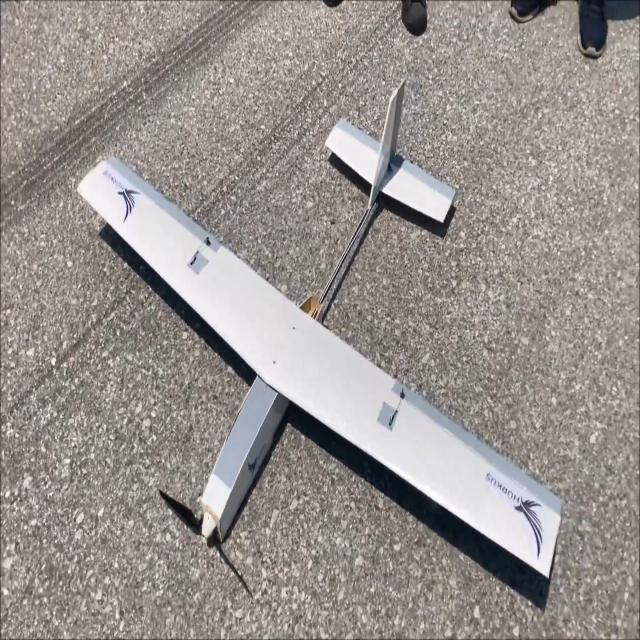UAV: (64, 97, 566, 628)
